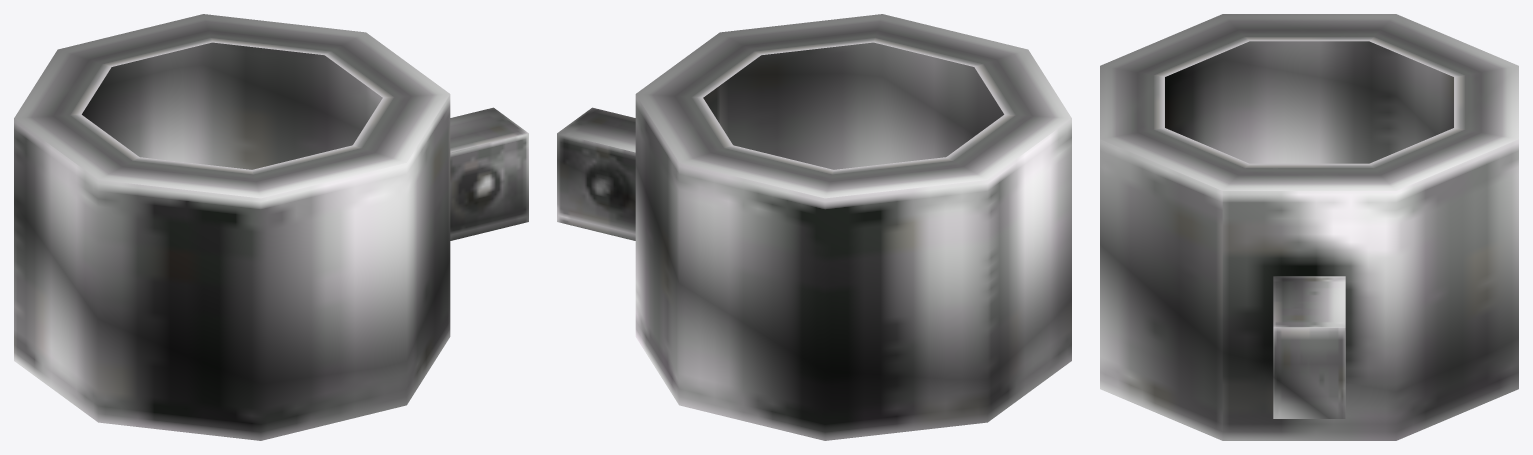
The model's file is INST_SWORDLIGHT_MANACLE.fbx.
The picture shows the model from 3 angles, left to right: view 1: azimuth 30°, elevation 25°; view 2: azimuth 150°, elevation 25°; view 3: azimuth 270°, elevation 25°; orthographic projection. The views are drawn at different scales.
Visible parts, largest first — view 1: INST_SWORDLIGHT_MANACLE; view 2: INST_SWORDLIGHT_MANACLE; view 3: INST_SWORDLIGHT_MANACLE.
Part boxes in pixels (x1,y1,x2,y2): INST_SWORDLIGHT_MANACLE: [14, 14, 528, 440]; INST_SWORDLIGHT_MANACLE: [557, 14, 1071, 440]; INST_SWORDLIGHT_MANACLE: [1100, 14, 1518, 440].
Bounding box in the file's own units: 1790 × 911 × 1385.
1 material, 1 textured.
